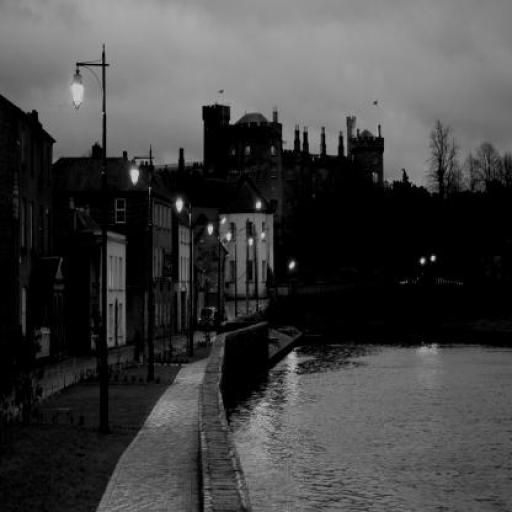street light: (70, 43, 112, 433), (130, 146, 154, 380), (176, 190, 196, 354), (206, 218, 222, 340), (226, 225, 237, 318), (255, 201, 262, 313), (249, 234, 259, 312), (262, 227, 271, 291)
